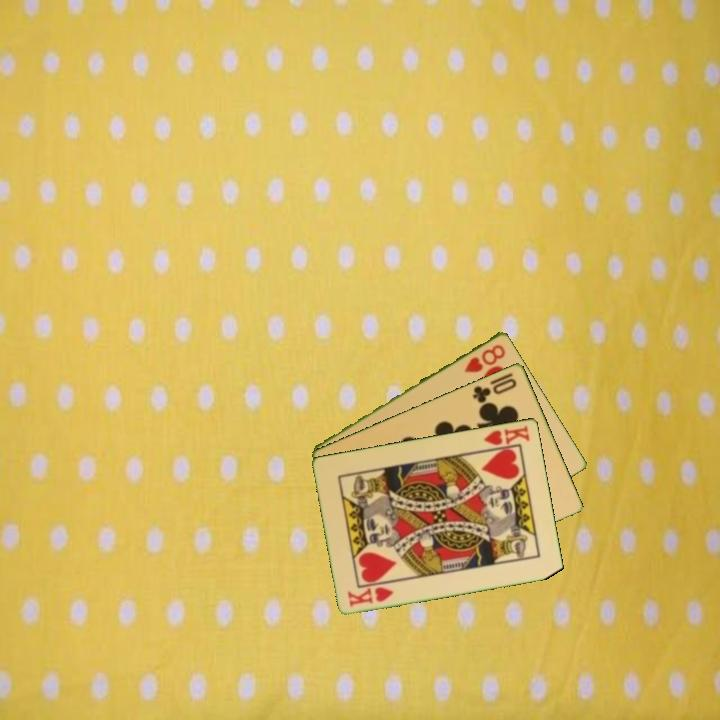10c: (469, 374, 520, 406)
8h: (461, 340, 508, 375)
Kh: (478, 422, 533, 453), (344, 583, 397, 609)
